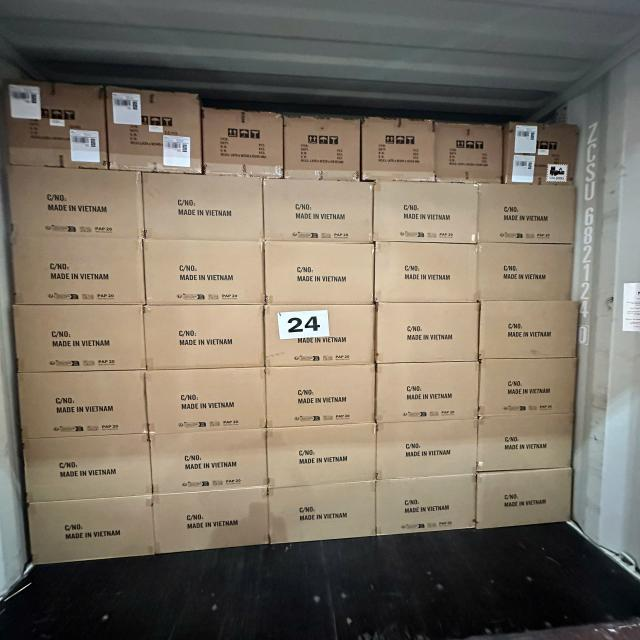Carton: (6, 166, 147, 239), (6, 236, 140, 310), (2, 78, 106, 172), (8, 301, 142, 371), (16, 369, 151, 438), (14, 432, 146, 501), (139, 239, 263, 310), (27, 498, 156, 566), (138, 169, 262, 239), (140, 369, 265, 438), (109, 86, 203, 177), (145, 304, 269, 372), (142, 428, 266, 494), (149, 493, 266, 561), (264, 241, 377, 307), (261, 178, 373, 244), (266, 304, 378, 370), (265, 426, 377, 489), (264, 367, 376, 429), (373, 180, 479, 245), (270, 480, 379, 543), (375, 242, 481, 305), (376, 363, 483, 425), (376, 303, 483, 365), (479, 301, 583, 363), (477, 182, 579, 245), (376, 474, 479, 535), (478, 360, 581, 420), (479, 467, 577, 530), (375, 418, 479, 477), (478, 243, 578, 303), (201, 108, 282, 179), (476, 413, 576, 470), (282, 114, 360, 180), (364, 117, 437, 181), (506, 121, 580, 184), (433, 120, 502, 182)
